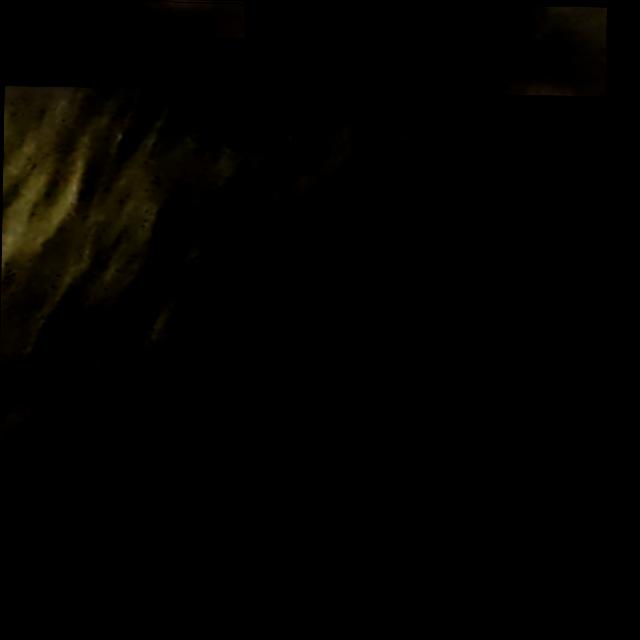mae: (4, 0, 605, 91)
mal: (5, 0, 245, 37)
